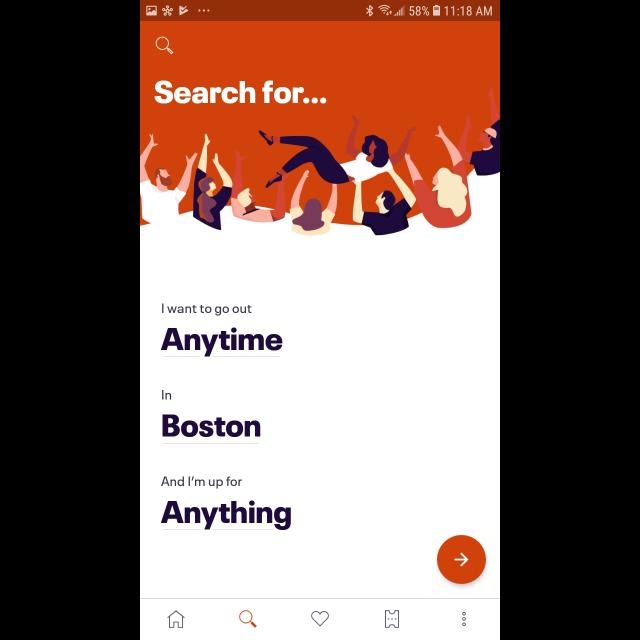icon: (437, 535, 487, 585), (156, 37, 174, 55), (167, 610, 185, 628), (239, 610, 257, 628), (311, 610, 329, 626), (385, 610, 399, 628), (462, 612, 466, 626)
image: (140, 21, 500, 235)
text: (154, 80, 326, 104), (161, 500, 291, 530), (161, 327, 283, 357), (163, 414, 261, 438), (162, 304, 252, 316), (162, 476, 242, 488), (162, 390, 172, 400)
uppertaskbar: (140, 1, 500, 22)
